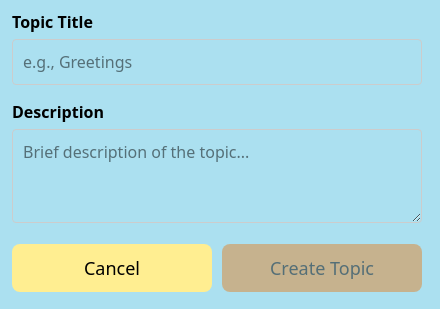
Scenario: CreateTopicForm Component › disables all buttons while submitting
Step 1. Type "Numbers" into the field with placeholder "e.g., Greetings" → (217, 62), box [12, 39, 422, 85]
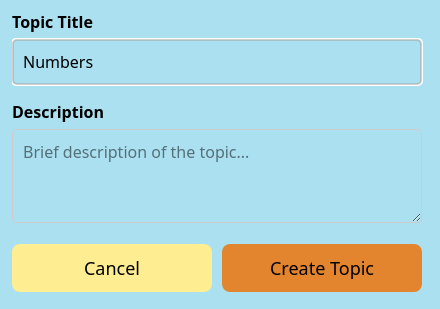
Step 2. Click the button "Create Topic" → (322, 268), box [222, 244, 422, 292]
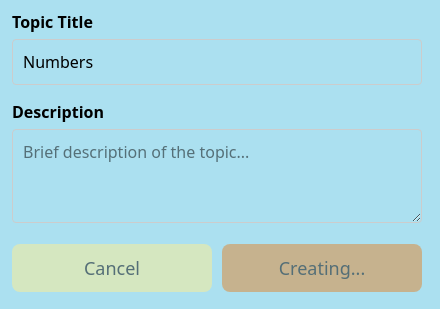
Now the button named "create topic" is disabled, box [222, 244, 422, 292]
Now the button "Cancel" is disabled, box [12, 244, 212, 292]
